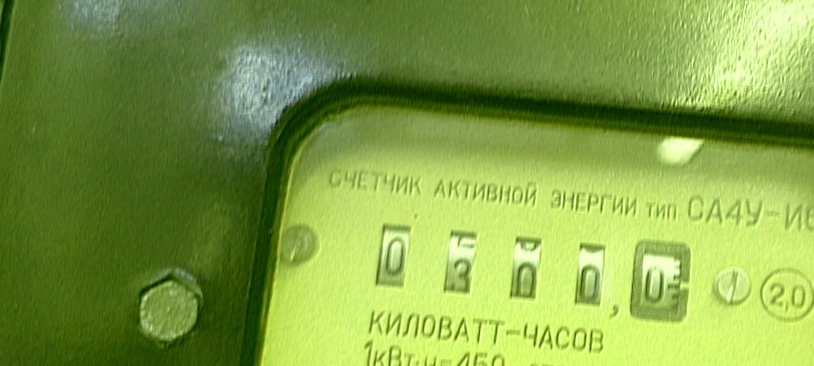0: (575, 262, 604, 308), (382, 234, 408, 282), (640, 264, 668, 308), (512, 260, 538, 303)
3: (448, 256, 473, 296)
screen: (352, 201, 714, 343)
